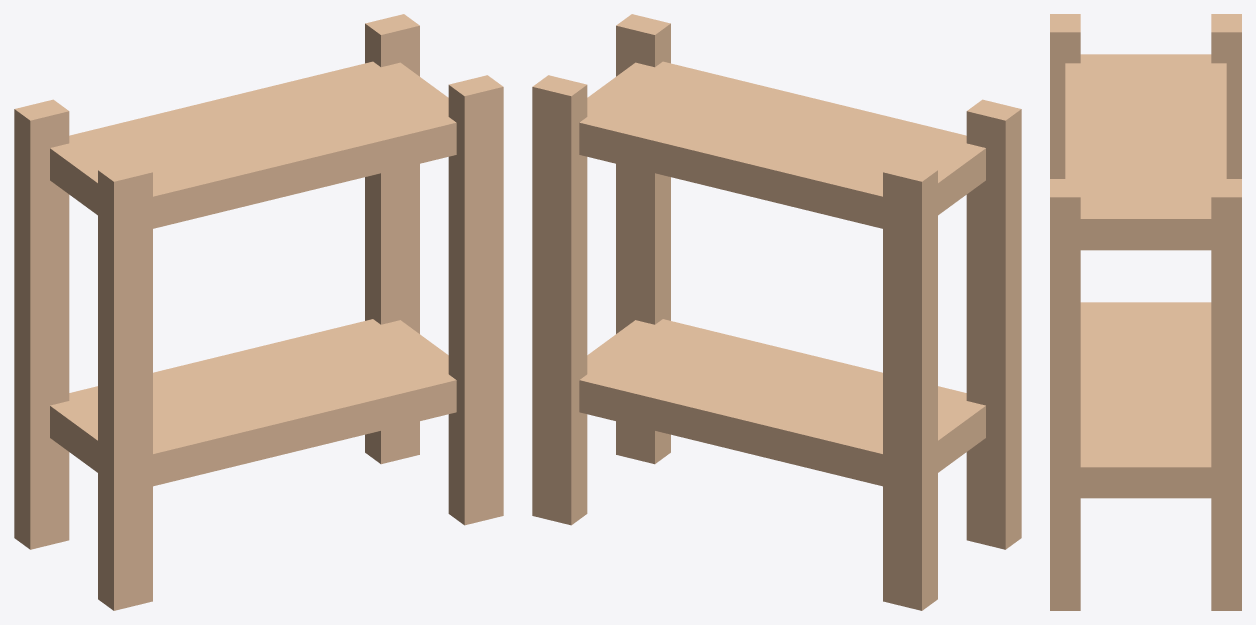
3 renders of one model, left to right at view 1: azimuth 30°, elevation 25°; view 2: azimuth 150°, elevation 25°; view 3: azimuth 270°, elevation 25°, orthographic. The views are drawn at different scales.
Visible parts, largest first — view 1: bookcaseOpenLow(Clone); view 2: bookcaseOpenLow(Clone); view 3: bookcaseOpenLow(Clone).
Boxes of the visible parts, bbox=[...] form: bookcaseOpenLow(Clone): bbox=[14, 14, 503, 610]; bookcaseOpenLow(Clone): bbox=[532, 14, 1021, 610]; bookcaseOpenLow(Clone): bbox=[1050, 14, 1241, 610].
Bounding box in the file's own units: 0.95 × 1 × 0.42.
